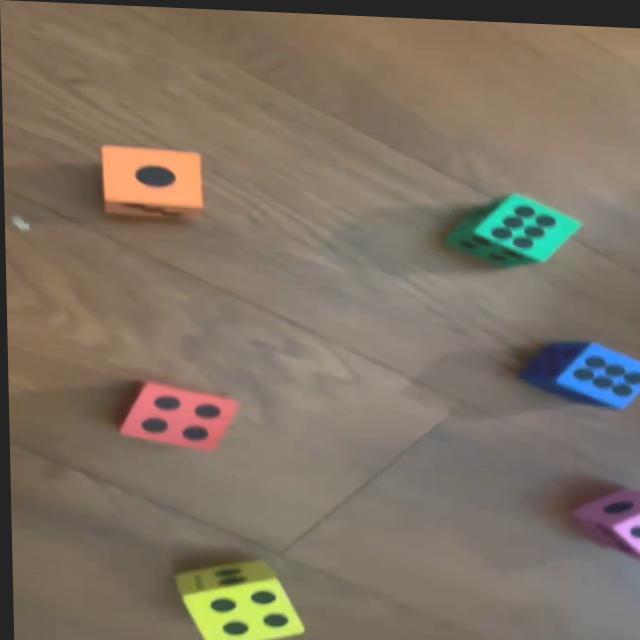blue_block: (519, 335, 640, 404)
red_block: (117, 380, 237, 450)
